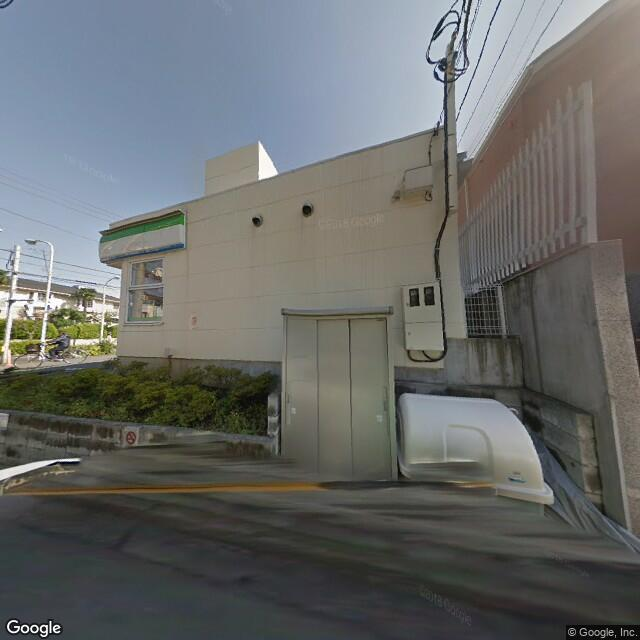family_mart: (98, 209, 192, 267)
